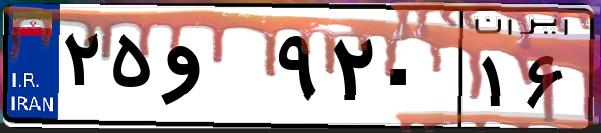0: (385, 28, 445, 110)
1: (475, 38, 525, 113)
2: (330, 28, 385, 110), (57, 26, 110, 100)
5: (110, 28, 158, 98)
6: (525, 38, 570, 115)
9: (270, 28, 330, 110)
و: (158, 20, 270, 120)
